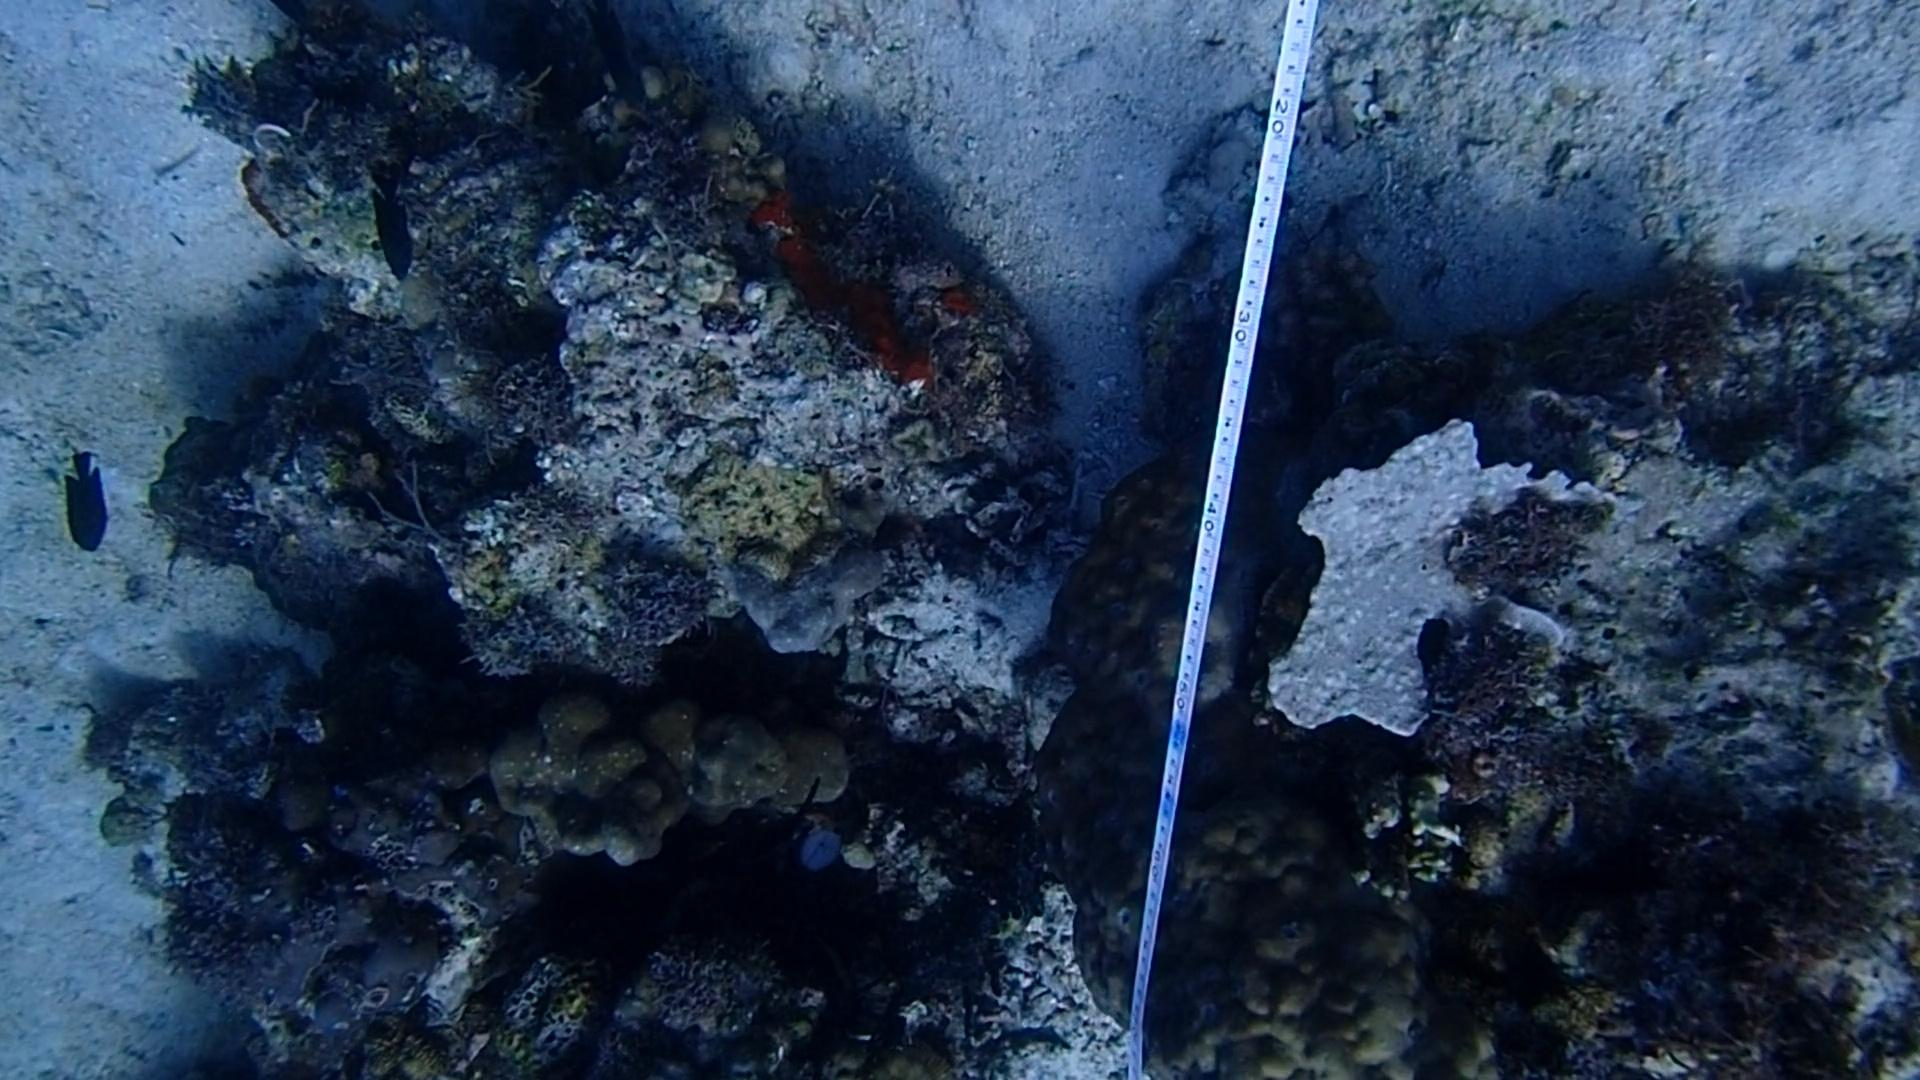Dark Fish: (349, 154, 435, 291), (47, 446, 128, 566)
